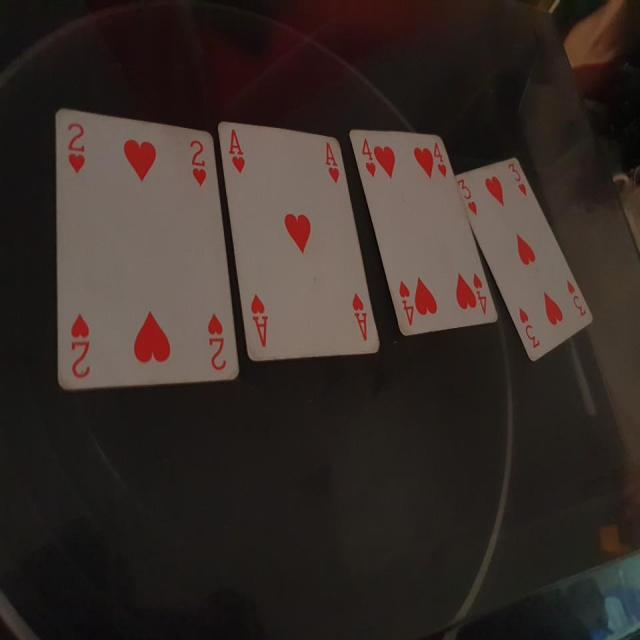2 Hearts: (49, 101, 244, 392)
3 Hearts: (454, 146, 602, 367)
4 Hearts: (353, 116, 506, 344)
A Hearts: (214, 114, 383, 362)
